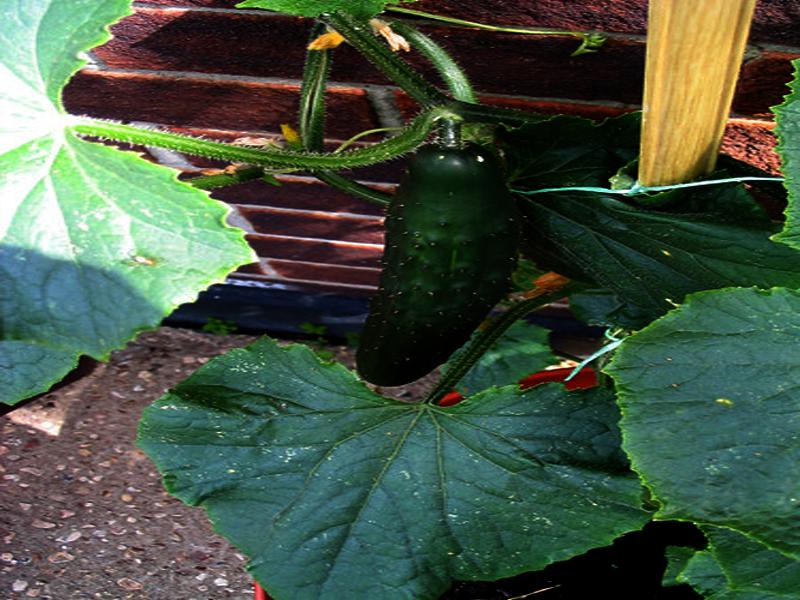Cucumber: (351, 143, 520, 386)
